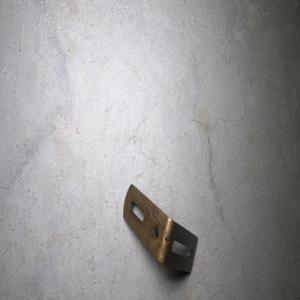MetalPart: (122, 183, 198, 275)
